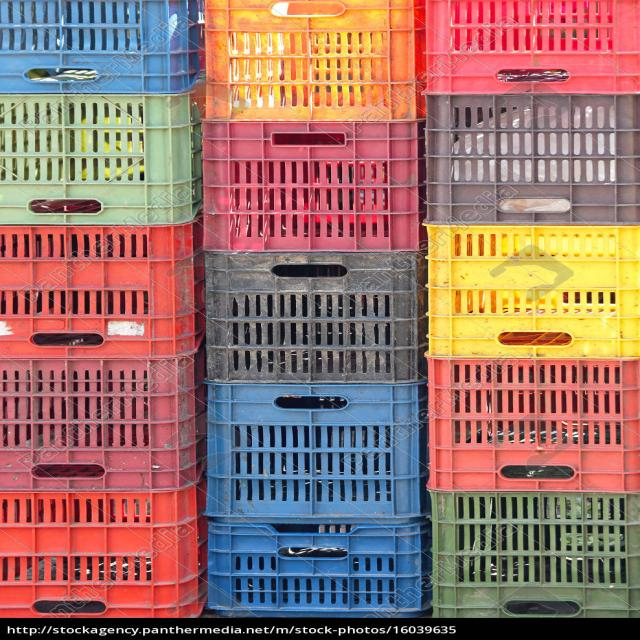basket: (207, 384, 426, 519), (202, 120, 425, 252), (205, 252, 425, 384), (0, 222, 204, 360), (426, 94, 640, 224), (0, 355, 200, 492), (0, 486, 200, 621), (1, 93, 201, 225), (207, 519, 432, 618), (427, 0, 640, 93), (0, 0, 198, 93)
